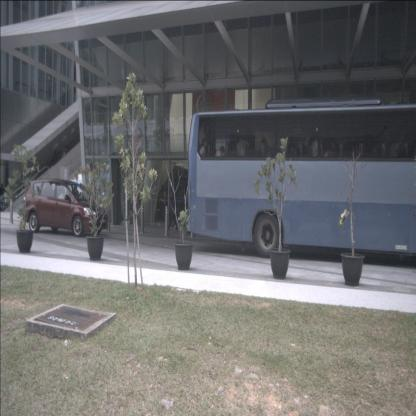human-pedestrian-adult: (0, 182, 5, 212)
vehicle-bus-rigid: (186, 103, 415, 271)
vehicle-car: (22, 178, 108, 238)
